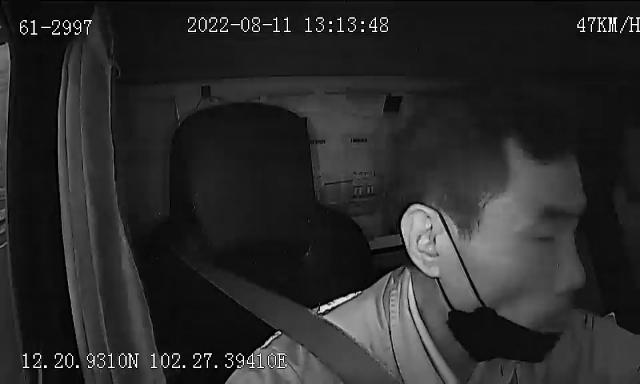Seatbelt: (168, 222, 412, 384)
